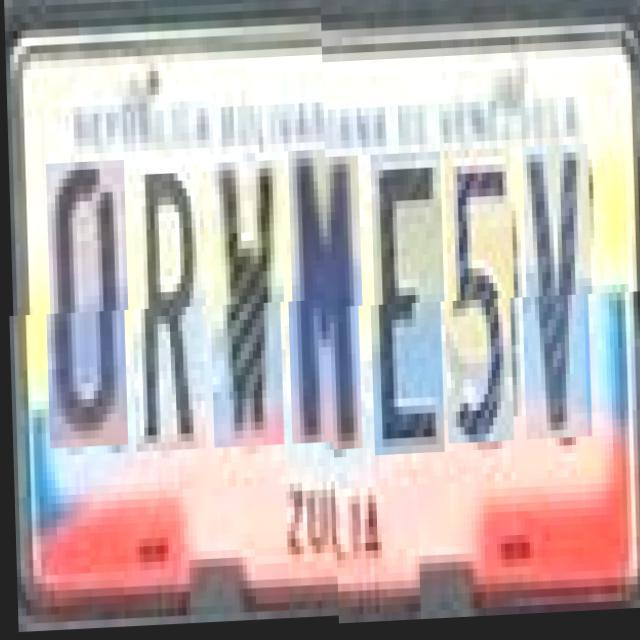0: (45, 168, 130, 456)
5: (444, 154, 516, 448)
E: (370, 156, 446, 459)
M: (287, 160, 363, 454)
R: (132, 166, 208, 461)
V: (521, 150, 593, 445)
W: (210, 162, 286, 458)
